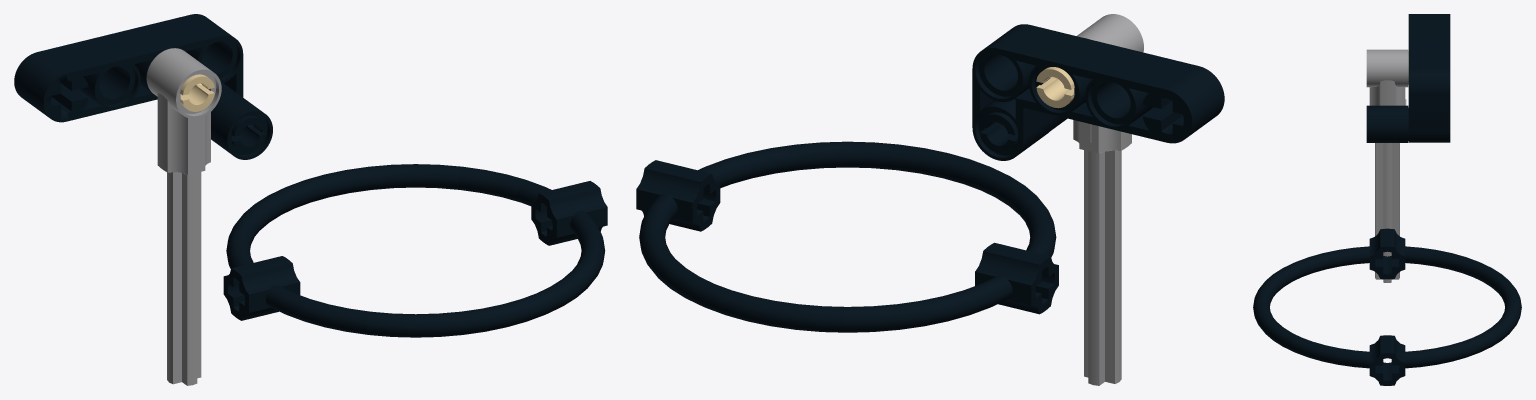
The model's file is one_way_1.glb.
3 renders of one model, left to right at view 1: azimuth 30°, elevation 25°; view 2: azimuth 150°, elevation 25°; view 3: azimuth 270°, elevation 25°, orthographic. The views are drawn at different scales.
Visible parts, largest first — view 1: 79851.dat, 32140.dat, 32013.dat, 18654.dat, 3673.dat, 2780.dat; view 2: 79851.dat, 32140.dat, 32013.dat, 2780.dat, 3673.dat; view 3: 79851.dat, 32140.dat, 32013.dat, 18654.dat.
Part boxes in pixels (x1=…): 79851.dat: x1=223, y1=164, x2=607, y2=337; 32140.dat: x1=14, y1=14, x2=243, y2=122; 32013.dat: x1=146, y1=48, x2=221, y2=385; 18654.dat: x1=211, y1=89, x2=272, y2=159; 3673.dat: x1=180, y1=74, x2=214, y2=111; 2780.dat: x1=231, y1=115, x2=265, y2=153; 79851.dat: x1=636, y1=141, x2=1058, y2=332; 32140.dat: x1=972, y1=24, x2=1224, y2=160; 32013.dat: x1=1073, y1=14, x2=1143, y2=385; 2780.dat: x1=980, y1=112, x2=1017, y2=153; 3673.dat: x1=1036, y1=67, x2=1074, y2=108; 79851.dat: x1=1253, y1=228, x2=1521, y2=385; 32140.dat: x1=1408, y1=14, x2=1450, y2=142; 32013.dat: x1=1366, y1=49, x2=1408, y2=282; 18654.dat: x1=1366, y1=105, x2=1408, y2=142.
Size of the model in its own units: 2.09 by 1.19 by 1.28.
